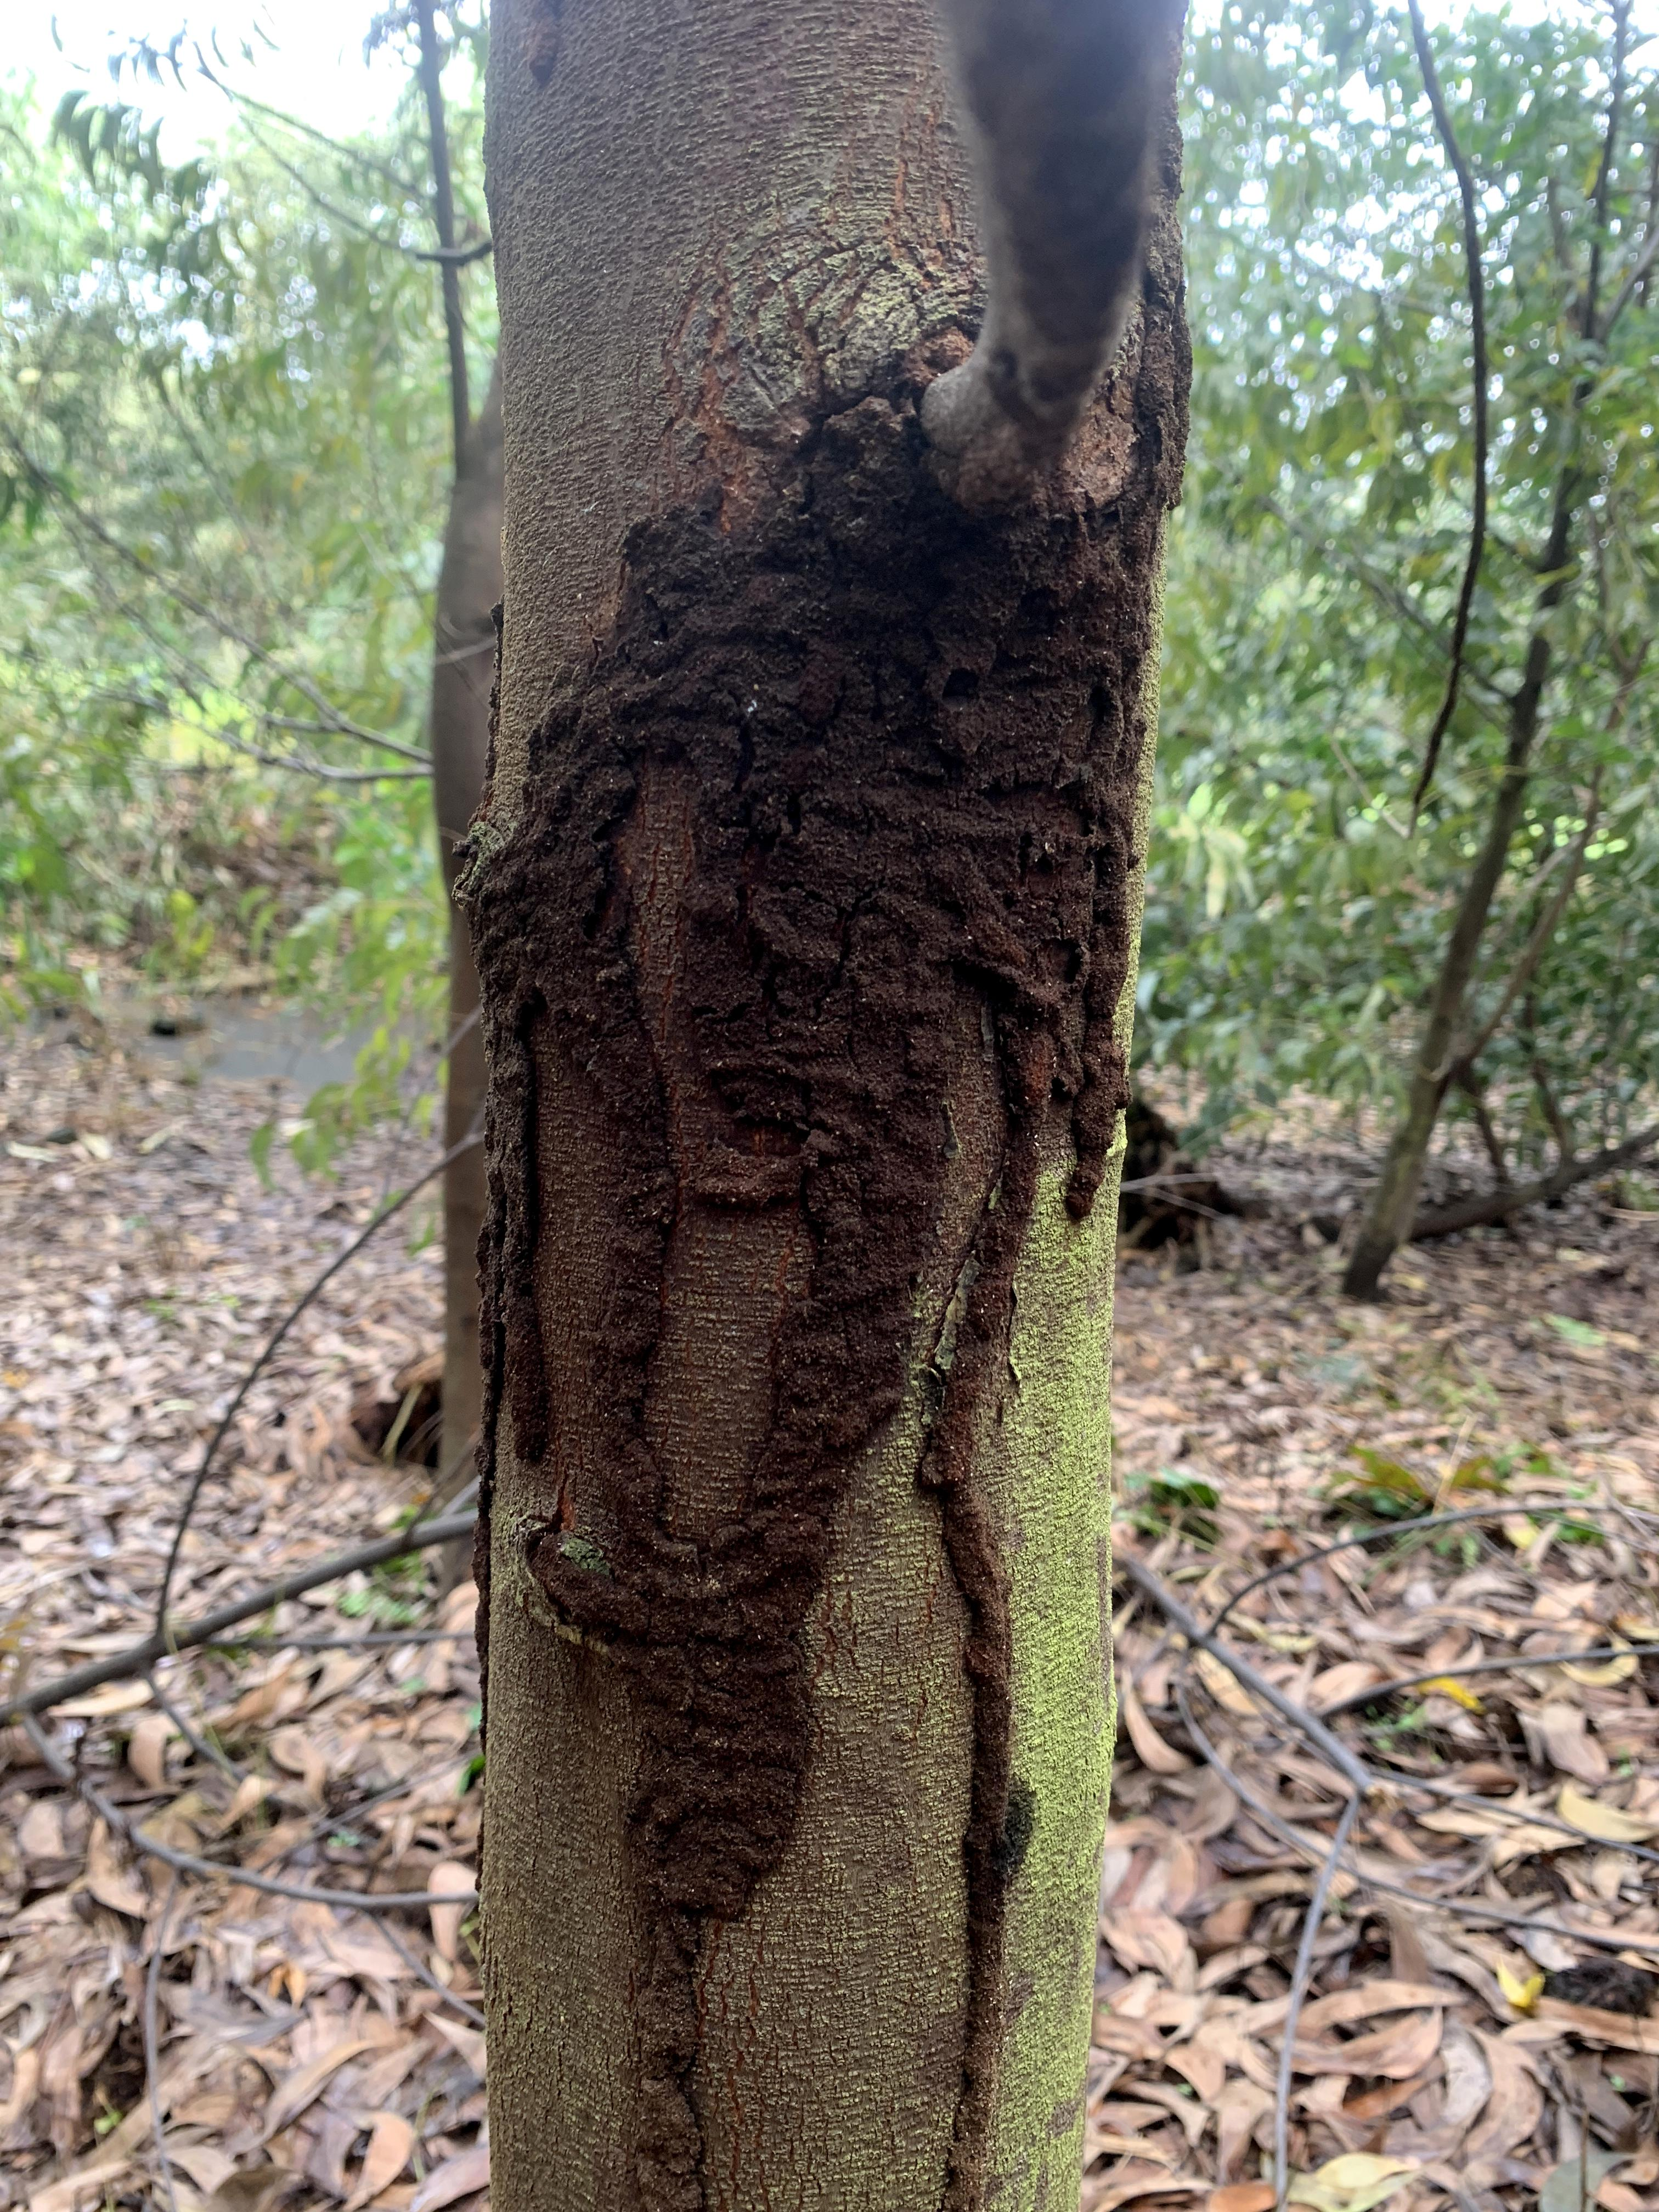Termite - Nest: (446, 341, 1140, 2212)
